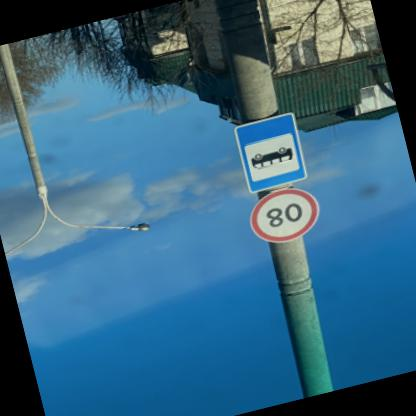speedlimit: (244, 183, 324, 250)
